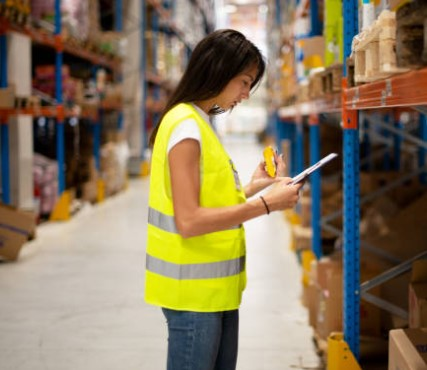worker: (147, 42, 247, 311)
